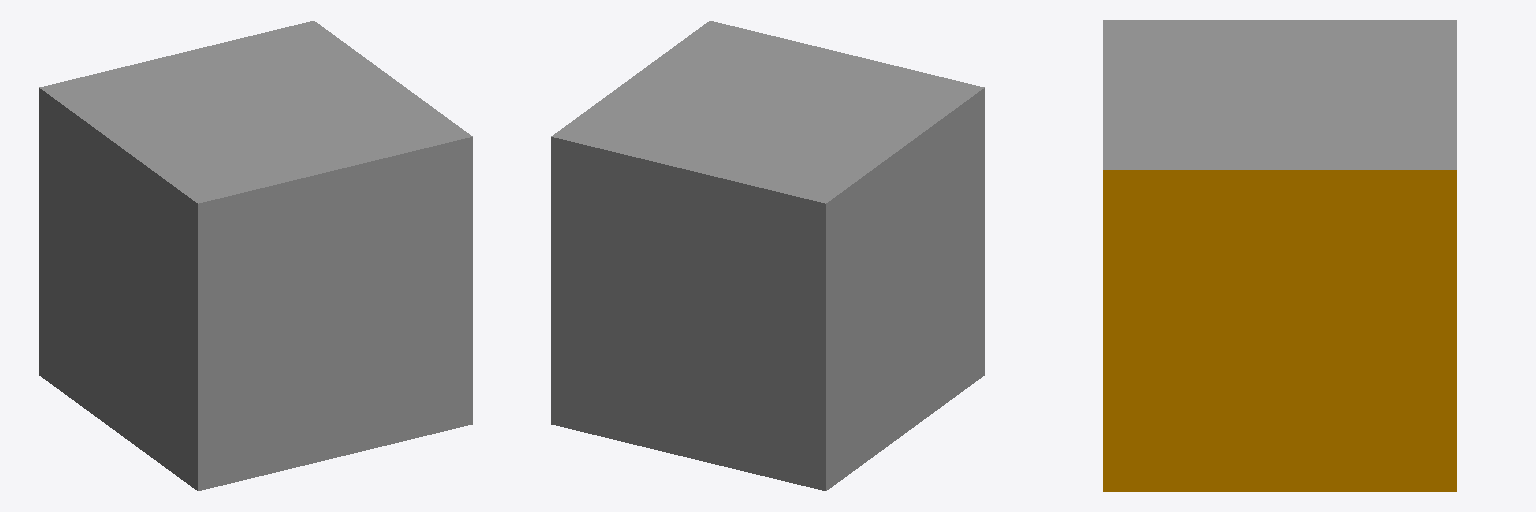
robot.urdf — unshaddedtagged_box2:
<robot name="unshaddedtagged_box2">
    <link name="box">
        <visual>
            <origin rpy="0 0 0" xyz="0 0 0"/>
            <geometry>
                <mesh filename="package://kinova_description/meshes/unshaddedtagged_box2.dae"/>
            </geometry>
        </visual>
        <collision>
            <origin rpy="0 0 0" xyz="0 0 0"/>
            <geometry>
                <mesh filename="package://kinova_description/meshes/unshaddedtagged_box2.dae"/>
            </geometry>
        </collision>
        <inertial>
            <origin rpy="0 0 0" xyz="0.000000 0.000000 0.000000"/>
            <mass value="35.336455"/>
            <inertia ixx="1.849155" ixy="-0.000354" ixz="-0.154188" iyy="1.662671" iyz="0.003292" izz="0.802239"/>
        </inertial>
    </link>
</robot>

--- What the picture shows (computed from the rendered views, not written in the file) ---
Views: 3 orthographic renders of the robot side by side, from view 1: azimuth 30°, elevation 25°; view 2: azimuth 150°, elevation 25°; view 3: azimuth 270°, elevation 25°.
Robot: unshaddedtagged_box2 — 1 links, 0 joints (none); root link box; default pose: every joint at zero.
Visible links, largest first — view 1: box; view 2: box; view 3: box.
Boxes of the visible links, x1,y1,x2,y2 form: box: (39, 21, 472, 490); box: (551, 21, 984, 490); box: (1103, 20, 1456, 491).
Size in the robot's own frame: 2 by 2 by 2 metres.
Meshes: 1 distinct files referenced, 1 mesh visuals loaded (1 Collada DAE).
